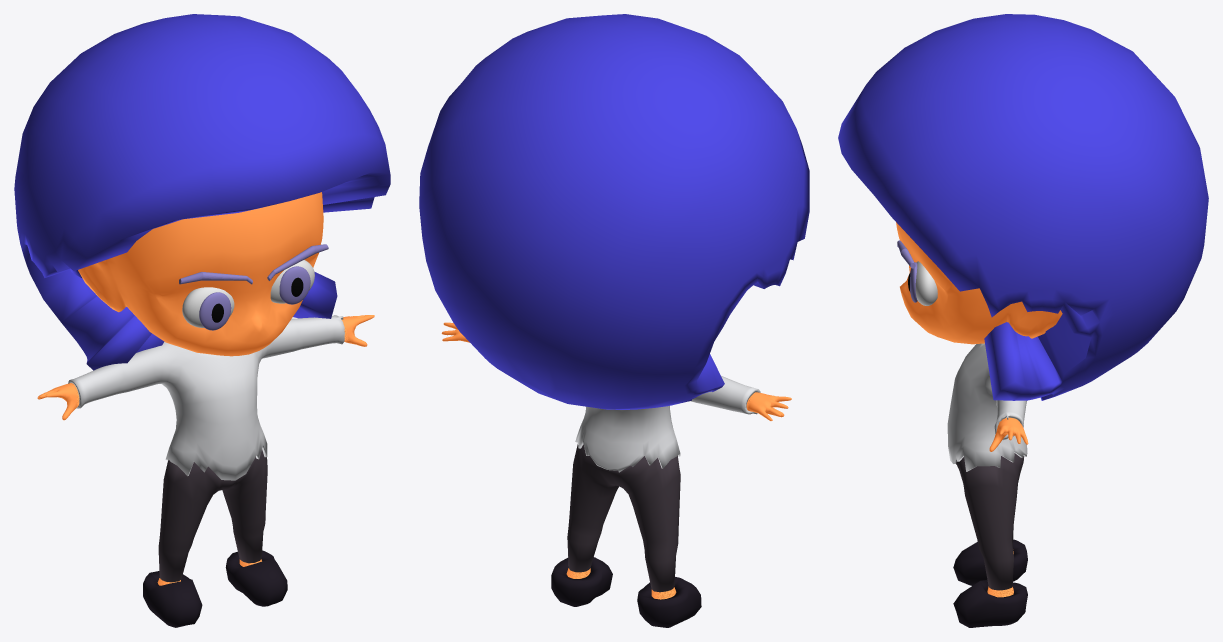
File: homie.gltf
The picture shows the model from 3 angles, left to right: view 1: azimuth 30°, elevation 25°; view 2: azimuth 150°, elevation 25°; view 3: azimuth 270°, elevation 25°; orthographic projection. The views are drawn at different scales.
Visible parts, largest first — view 1: hairbase, Retopology, Tshirt, pant, shoes, Sphere.002, Sphere.003, Sphere.004, Cylinder.002; view 2: hairbase, pant, Tshirt, shoes, Retopology; view 3: hairbase, Retopology, Tshirt, pant, shoes, Sphere.005.
Boxes of the visible parts, bbox=[...] form: hairbase: bbox=[14, 14, 390, 370]; Retopology: bbox=[37, 192, 374, 585]; Tshirt: bbox=[68, 315, 344, 480]; pant: bbox=[158, 449, 267, 582]; shoes: bbox=[143, 550, 287, 627]; Sphere.002: bbox=[182, 287, 234, 327]; Sphere.003: bbox=[199, 292, 231, 330]; Sphere.004: bbox=[279, 266, 310, 304]; Cylinder.002: bbox=[179, 272, 252, 284]; hairbase: bbox=[419, 14, 809, 409]; pant: bbox=[567, 444, 680, 592]; Tshirt: bbox=[575, 376, 760, 472]; shoes: bbox=[551, 557, 701, 627]; Retopology: bbox=[441, 322, 791, 599]; hairbase: bbox=[838, 14, 1208, 400]; Retopology: bbox=[896, 222, 1062, 597]; Tshirt: bbox=[947, 343, 1027, 471]; pant: bbox=[956, 453, 1023, 590]; shoes: bbox=[953, 539, 1027, 627]; Sphere.005: bbox=[915, 261, 937, 305].
Size of the model in its own units: 1.01 by 1.64 by 0.9683.
